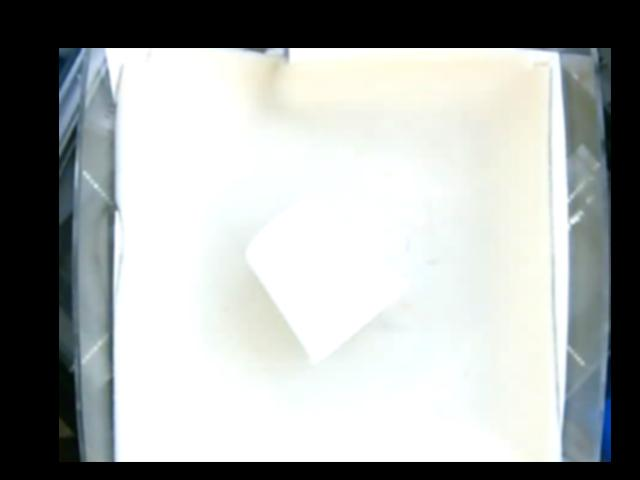Cup: (247, 195, 410, 364)
